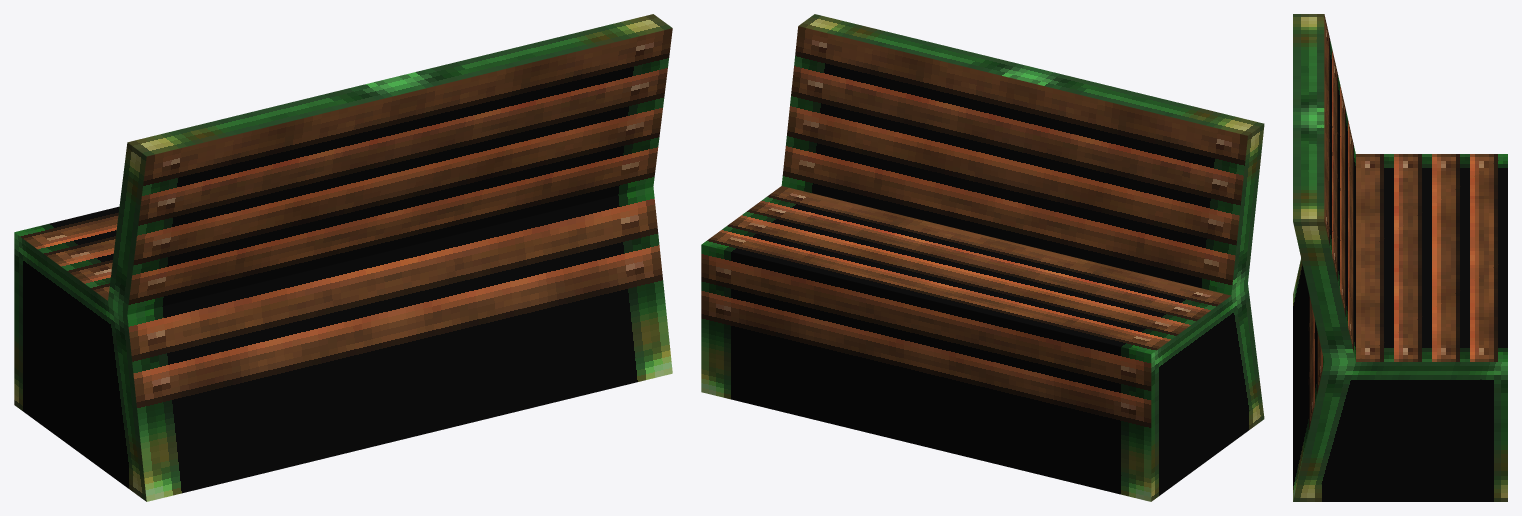
3 views of the same model, side by side, from view 1: azimuth 30°, elevation 25°; view 2: azimuth 150°, elevation 25°; view 3: azimuth 270°, elevation 25° (orthographic). The views are drawn at different scales.
Visible parts, largest first — view 1: prim089-Line01; view 2: prim089-Line01; view 3: prim089-Line01.
Boxes of the visible parts, bbox=[...] form: prim089-Line01: bbox=[14, 14, 672, 501]; prim089-Line01: bbox=[701, 14, 1264, 501]; prim089-Line01: bbox=[1293, 14, 1507, 501].
Bounding box in the file's own units: 204 × 128 × 89.
Materials: 1 (1 with a texture image).
